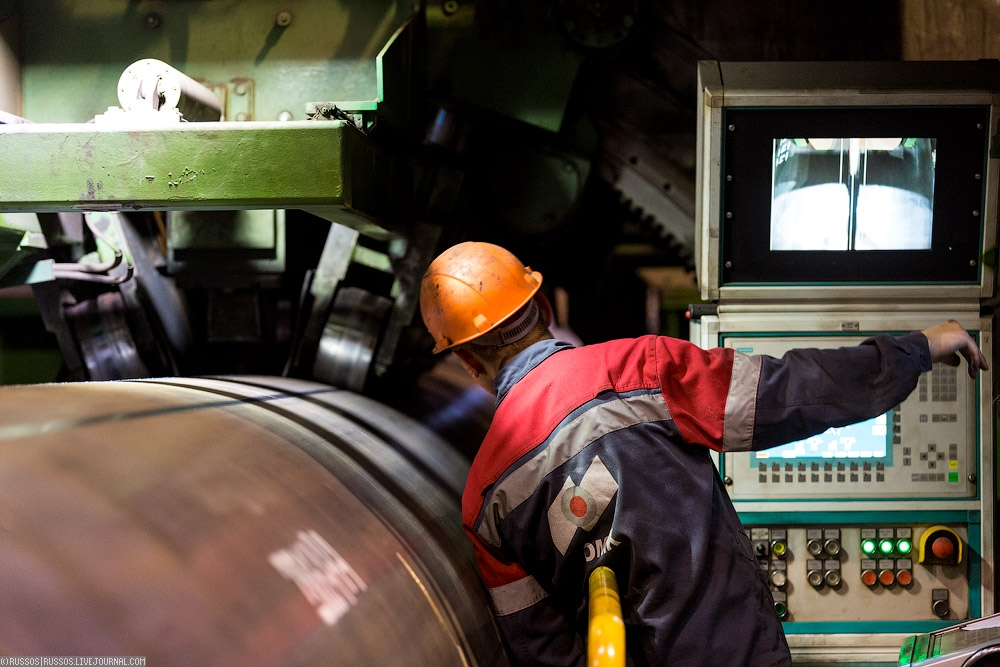person: (420, 240, 990, 667)
